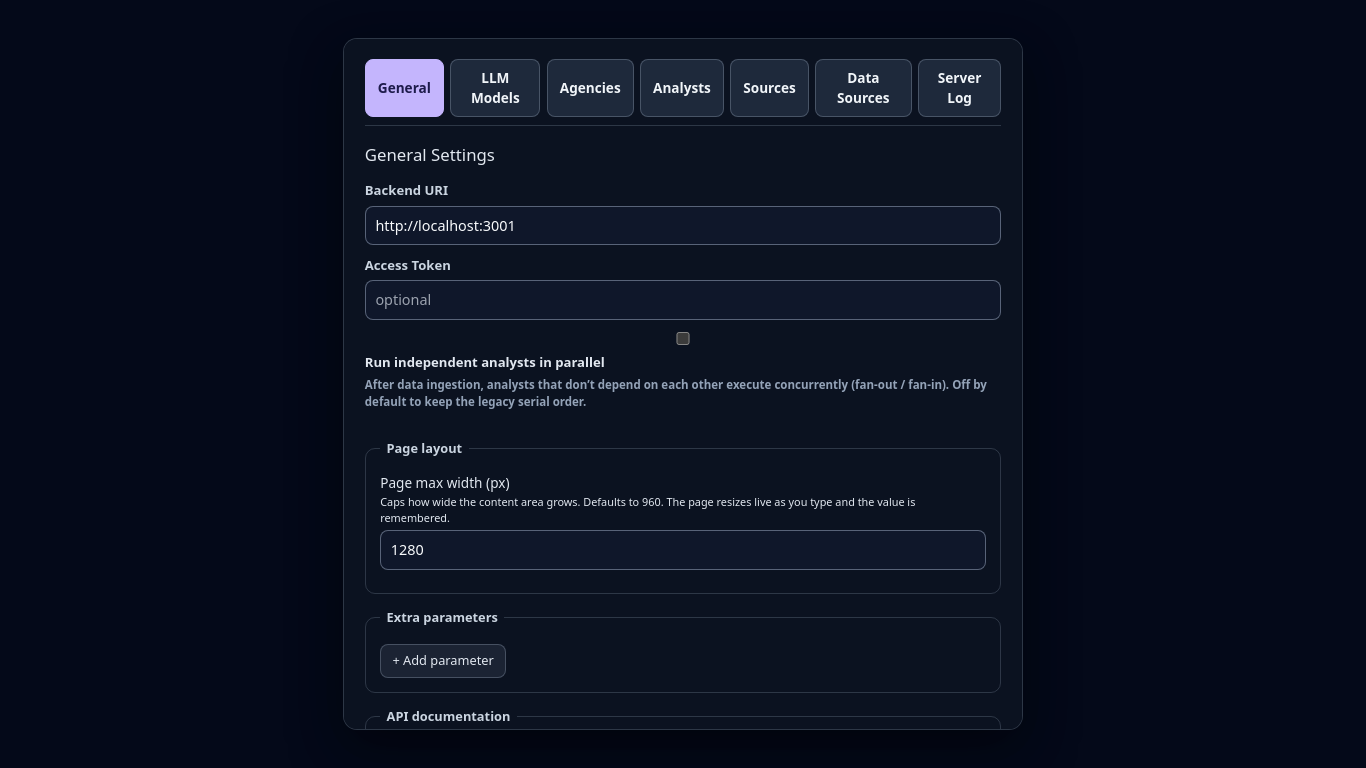
Scenario: SettingsDialog LLM Models tab › tokens render as password inputs; a seeded role (provider+model, no token) shows "configured" + "no token" (token never echoed)
The width and height of the screenshot is (1366, 768).
Click the tab with test id "tab-llm" at (495, 88), box x1=450 y1=59 x2=540 y2=117
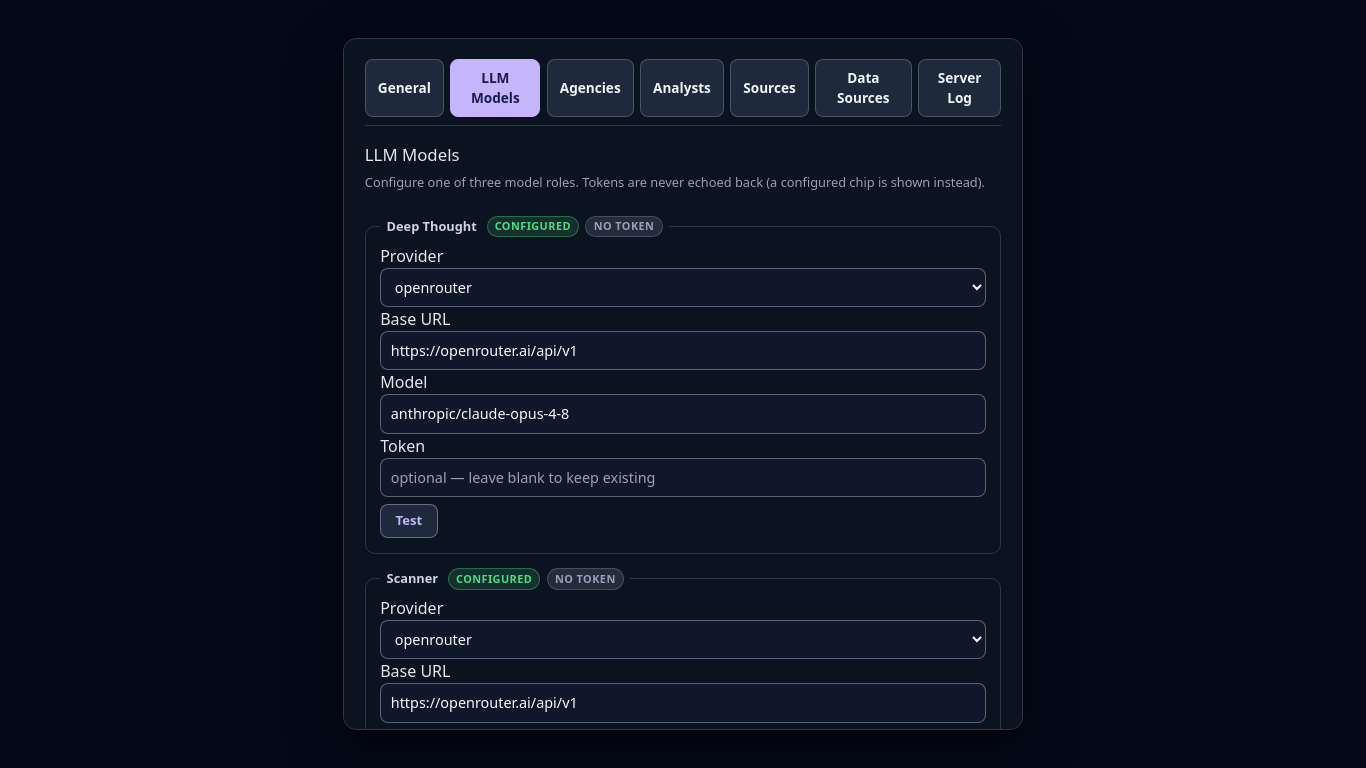
Check: the element with test id "llm-role-deep-thought" is shown, box x1=365 y1=216 x2=1001 y2=554
Check: the password field named "deep-thought token" is empty, box x1=380 y1=458 x2=986 y2=498
Check: the text named "deep-thought configured" is shown, box x1=486 y1=216 x2=579 y2=237
